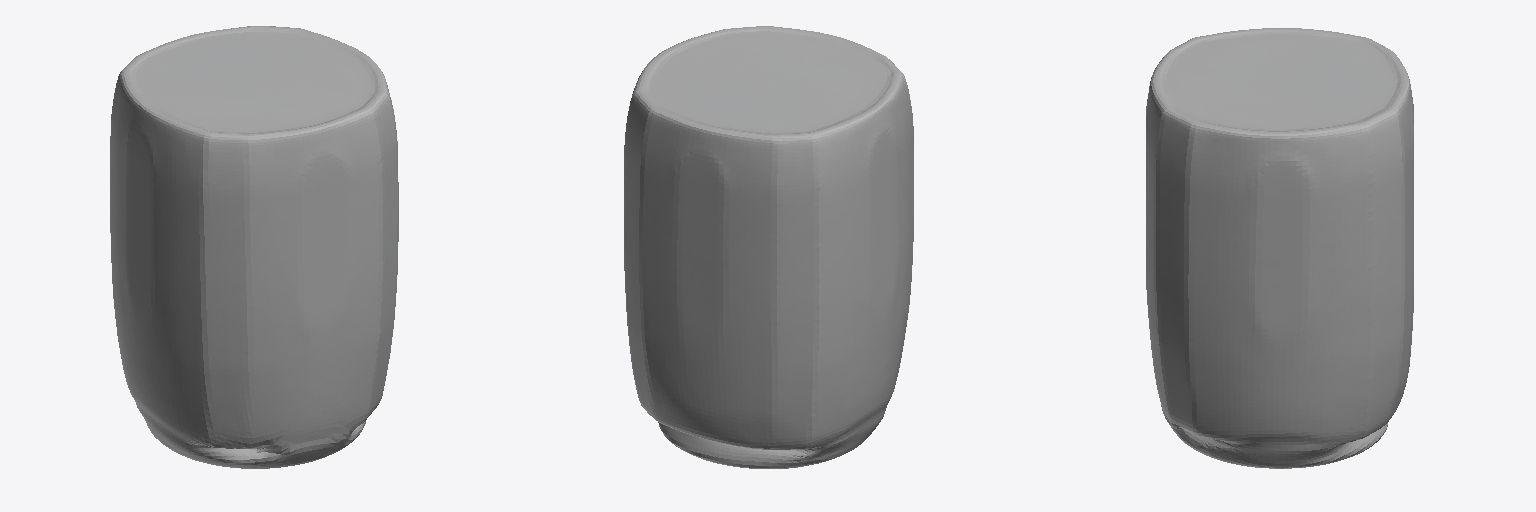
The picture shows the model from 3 angles: view 1: azimuth 30°, elevation 25°; view 2: azimuth 150°, elevation 25°; view 3: azimuth 270°, elevation 25°; orthographic projection.
Parts seen in each view (by area): view 1: tripo_node_535394ed-3f56-4b3e-b868-a247d076b3f7; view 2: tripo_node_535394ed-3f56-4b3e-b868-a247d076b3f7; view 3: tripo_node_535394ed-3f56-4b3e-b868-a247d076b3f7.
Boxes of the visible parts, <box> form: tripo_node_535394ed-3f56-4b3e-b868-a247d076b3f7: <box>110,26,398,468</box>; tripo_node_535394ed-3f56-4b3e-b868-a247d076b3f7: <box>624,26,913,468</box>; tripo_node_535394ed-3f56-4b3e-b868-a247d076b3f7: <box>1146,28,1413,468</box>.
Bounding box in the file's own units: 0.6933 × 0.9998 × 0.6947.
1 materials, 1 textured.